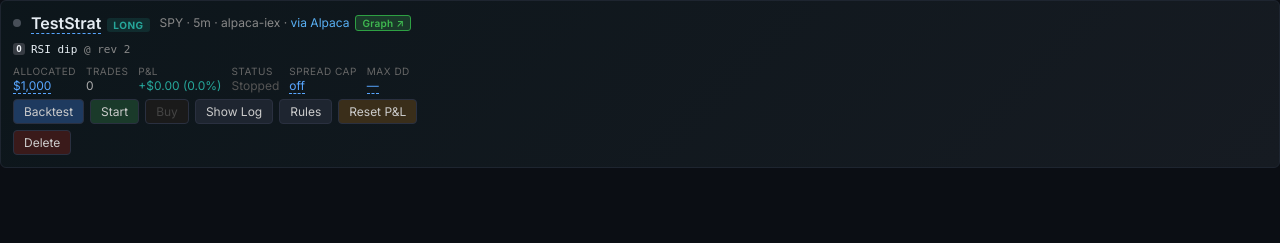
Test: BotCard Rules button (F454) › a 404 reads "Bot not found." on the bot card (IN-2)
This screenshot has width=1280, height=243.
Click the button with test id "botcard-rules-btn".
click(306, 112)  # box [279,99,332,124]
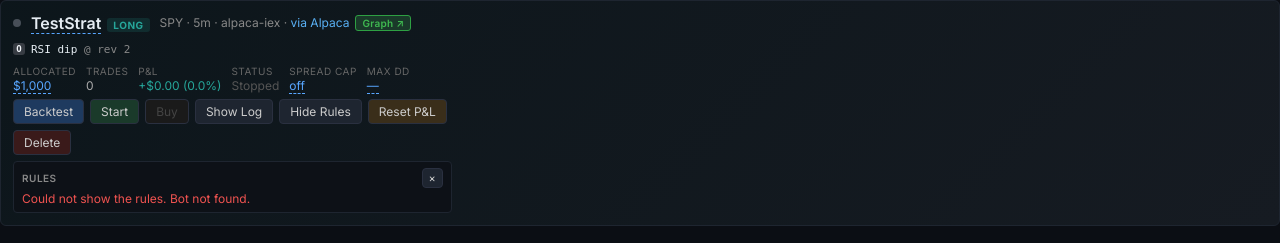
Check: the message with test id "botcard-rules-error" reads "Could not show the rules. Bot not found.", box [22,191,250,206]
